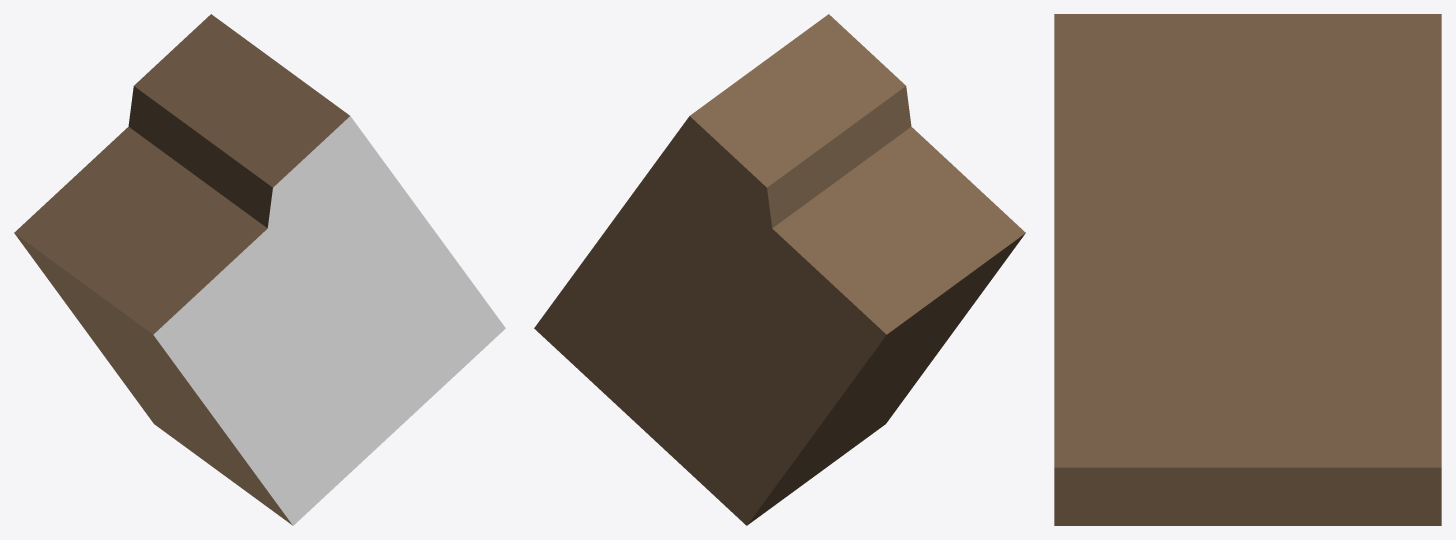
The picture shows the model from 3 angles, left to right: view 1: azimuth 30°, elevation 25°; view 2: azimuth 150°, elevation 25°; view 3: azimuth 270°, elevation 25°; orthographic projection. The views are drawn at different scales.
Visible parts, largest first — view 1: City_1202556; view 2: City_1202556; view 3: City_1202556.
Boxes of the visible parts, x1,y1,x2,y2 form: City_1202556: [14, 14, 505, 525]; City_1202556: [534, 14, 1025, 525]; City_1202556: [1054, 14, 1441, 525].
Bounding box in the file's own units: 1456 × 1563 × 996.
